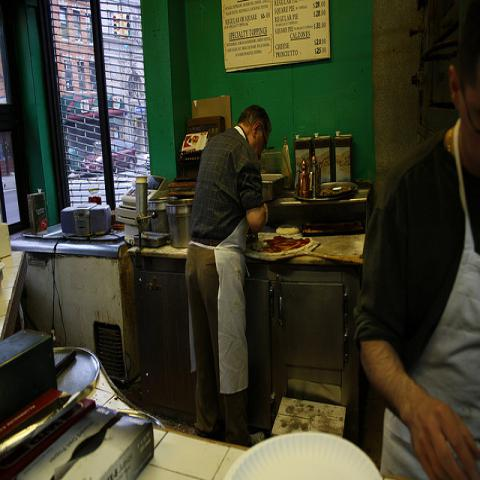car: (81, 139, 137, 175)
